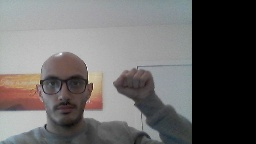Pugno: (110, 66, 156, 99)
